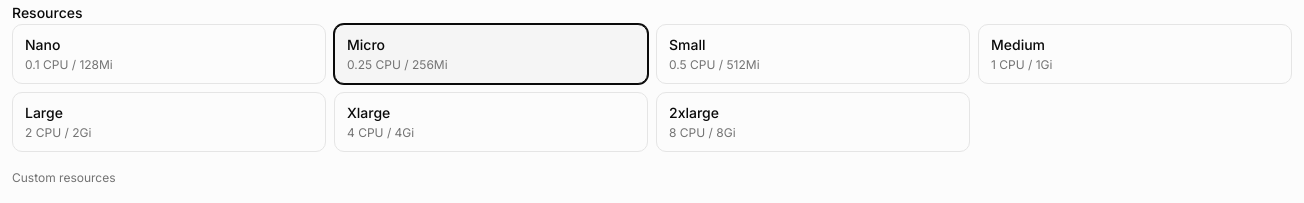
Test: ResourcesPicker › switches to custom mode
What coordinates should you click on to do the following:
click the button "Custom resources"
I would click on:
 (64, 178)
Its box is [12,170,116,186].
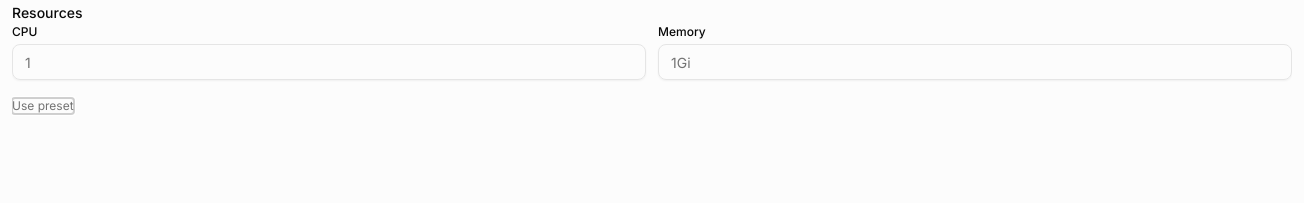
Check: the field with placeholder "1" is shown, box [12,44,646,80]
Check: the field with placeholder "1Gi" is shown, box [658,44,1292,80]
